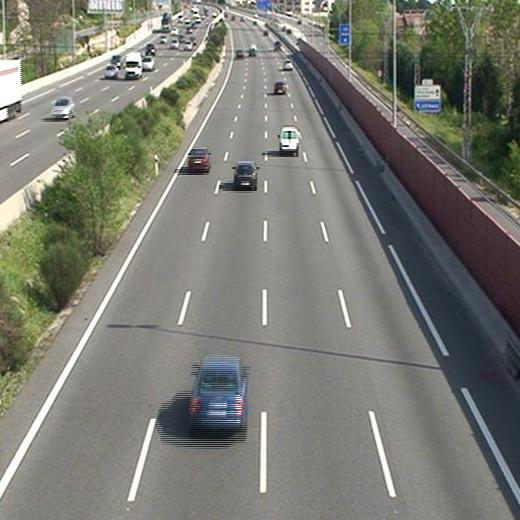car: (191, 354, 247, 427), (234, 161, 258, 188), (189, 147, 211, 171), (274, 82, 286, 94), (284, 59, 293, 69)
van: (278, 127, 299, 151)
